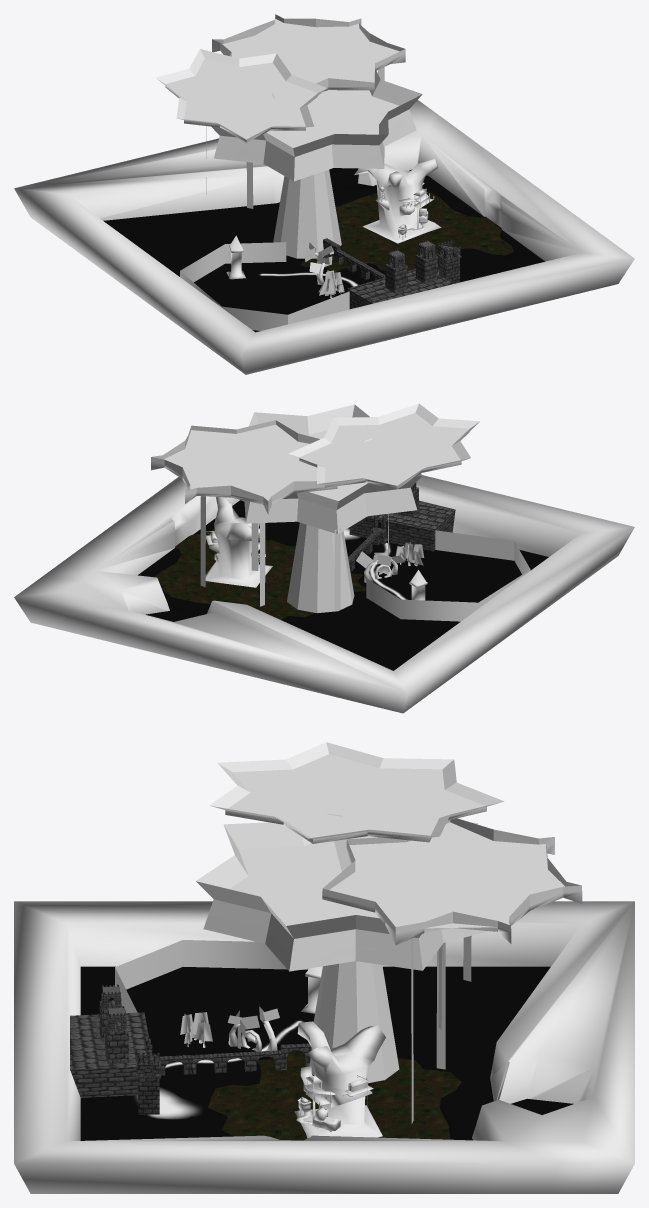
Rendered from swamptest.fbx.
3 views of the same model, one above another, from view 1: azimuth 30°, elevation 25°; view 2: azimuth 150°, elevation 25°; view 3: azimuth 270°, elevation 25° (orthographic). The views are drawn at different scales.
Parts seen in each view (by area): view 1: Walls, Weenie_tree, Ground, Swamp, Plane, HunterTree, Foretress, Foretress_tower, Bridge, Cube.001; view 2: Walls, Weenie_tree, Ground, Swamp, Plane, HunterTree, Foretress, Portal_tree.002, Bridge; view 3: Walls, Weenie_tree, Ground, Swamp, Foretress, HunterTree, Plane, Bridge, Foretress_tower, Hunter_building.001, Hunter_building.002, Portal_tree.001.
Part boxes in pixels (box(x1,y1,x2,y2)): Walls: box(14, 100, 634, 374); Weenie_tree: box(155, 14, 422, 258); Ground: box(103, 168, 544, 332); Swamp: box(300, 191, 513, 272); Plane: box(180, 242, 349, 330); HunterTree: box(354, 159, 441, 243); Foretress: box(347, 240, 453, 309); Foretress_tower: box(436, 240, 461, 283); Bridge: box(323, 238, 385, 280); Cube.001: box(226, 235, 245, 279); Walls: box(14, 475, 634, 713); Weenie_tree: box(151, 403, 479, 613); Ground: box(138, 500, 548, 670); Swamp: box(154, 528, 366, 619); Plane: box(366, 530, 530, 621); HunterTree: box(205, 497, 272, 587); Foretress: box(349, 482, 455, 551); Portal_tree.002: box(356, 551, 391, 582); Bridge: box(348, 531, 379, 571); Walls: box(14, 901, 634, 1193); Weenie_tree: box(196, 742, 582, 1123); Ground: box(80, 966, 573, 1140); Swamp: box(208, 1050, 461, 1140); Foretress: box(70, 984, 160, 1097); HunterTree: box(294, 1021, 385, 1138); Plane: box(115, 940, 308, 1012); Bridge: box(159, 1043, 311, 1076); Foretress_tower: box(136, 1053, 160, 1114); Hunter_building.001: box(296, 1097, 340, 1131); Hunter_building.002: box(300, 1066, 335, 1118); Portal_tree.001: box(227, 1010, 259, 1048).
Size of the model in its own units: 54037 by 22360 by 54037.
